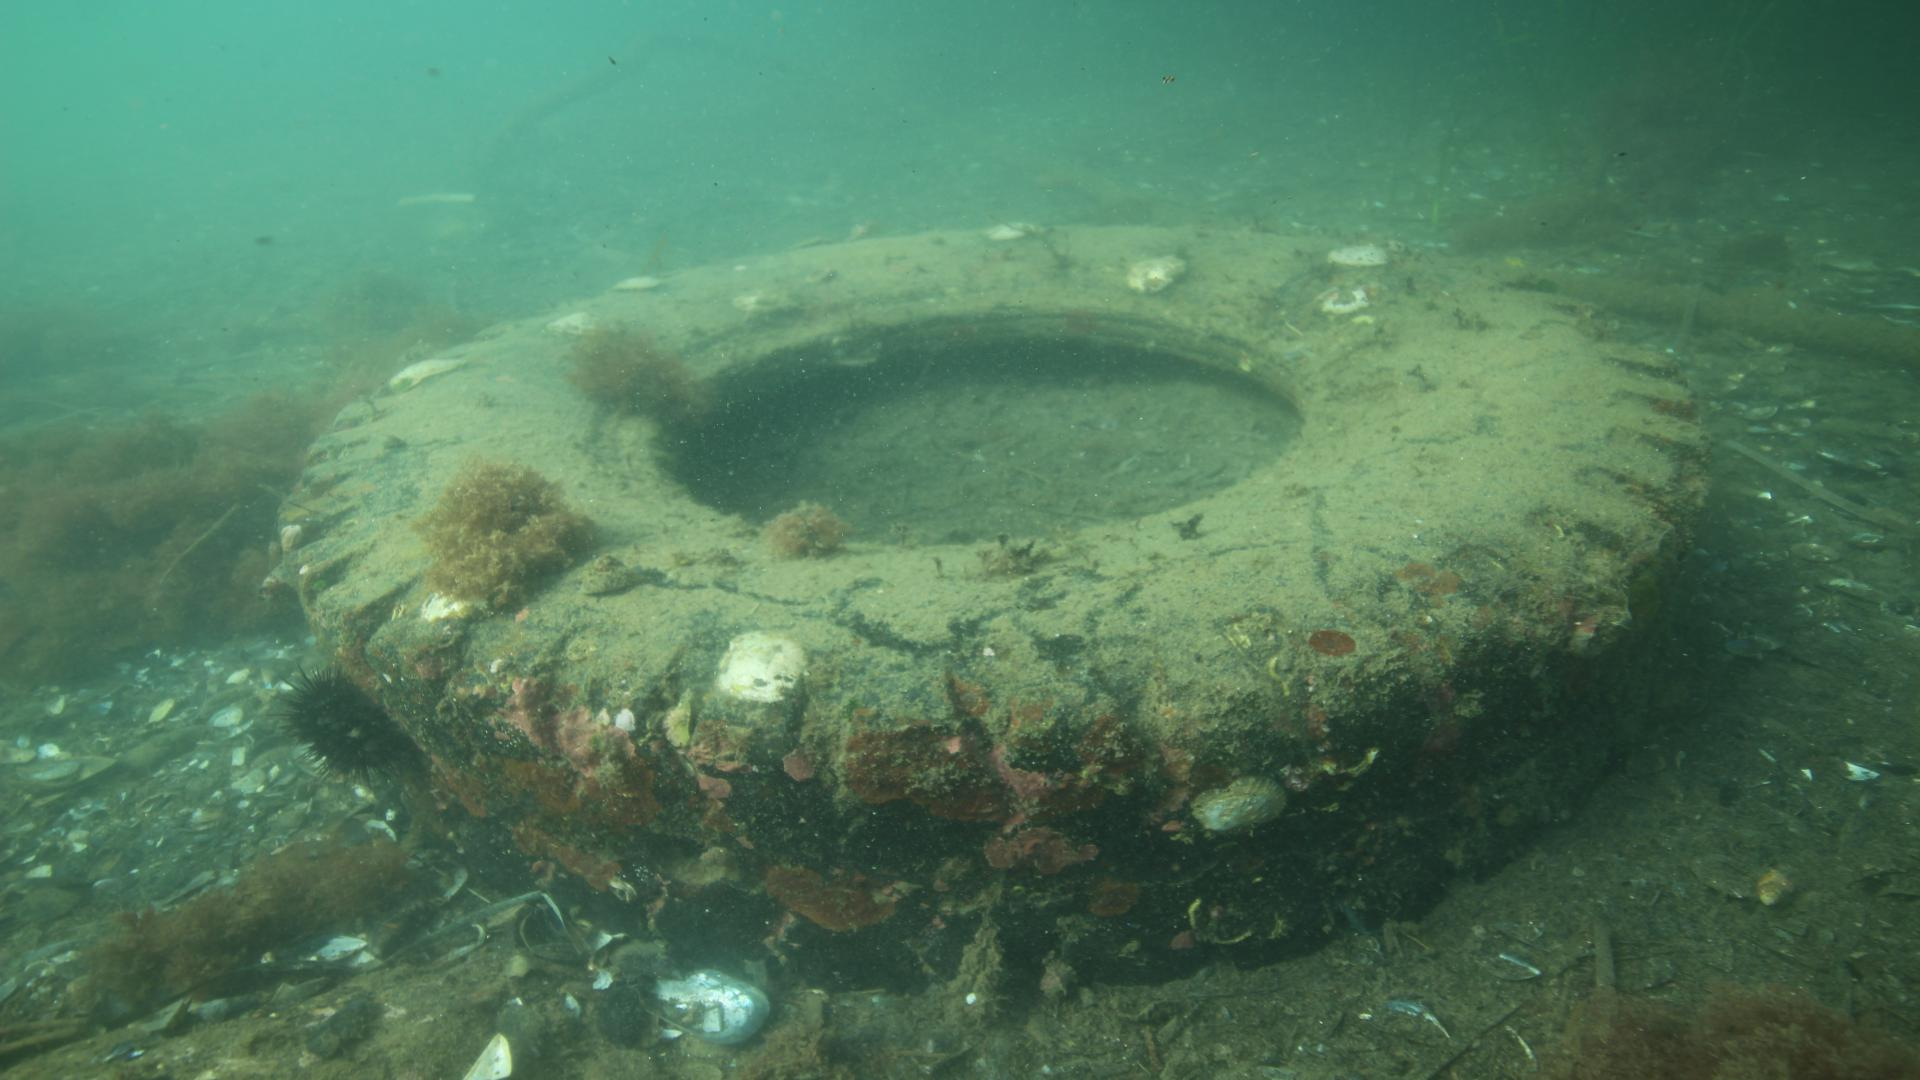tire: (272, 214, 1712, 993)
